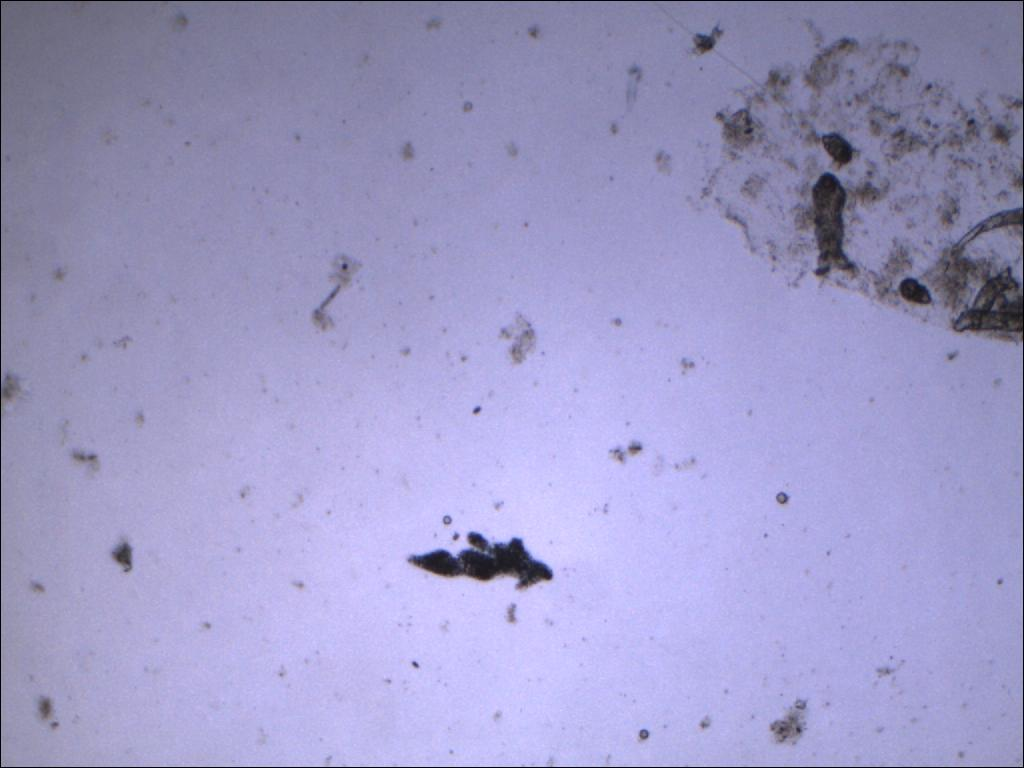amoeba: (399, 524, 559, 597)
